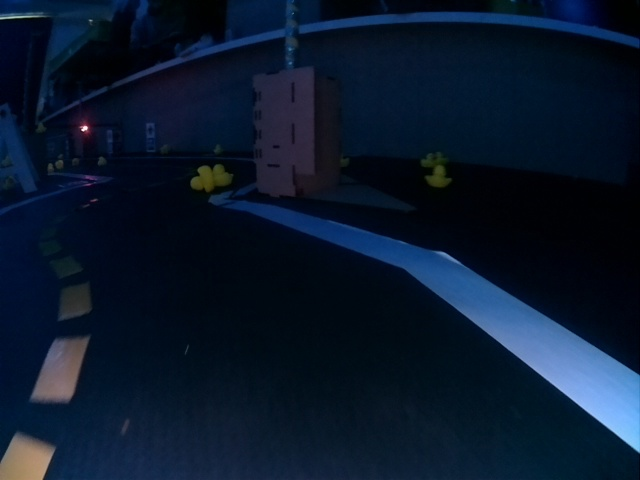Duckie: (191, 165, 212, 192), (426, 167, 450, 187), (213, 165, 234, 185), (422, 153, 433, 166), (341, 155, 350, 167), (436, 152, 446, 162), (5, 176, 15, 186), (47, 163, 56, 172), (36, 122, 45, 131), (98, 157, 107, 165), (55, 161, 64, 169), (215, 145, 223, 153), (160, 145, 168, 153), (72, 158, 80, 166)
Traffic light: (80, 125, 90, 133)
